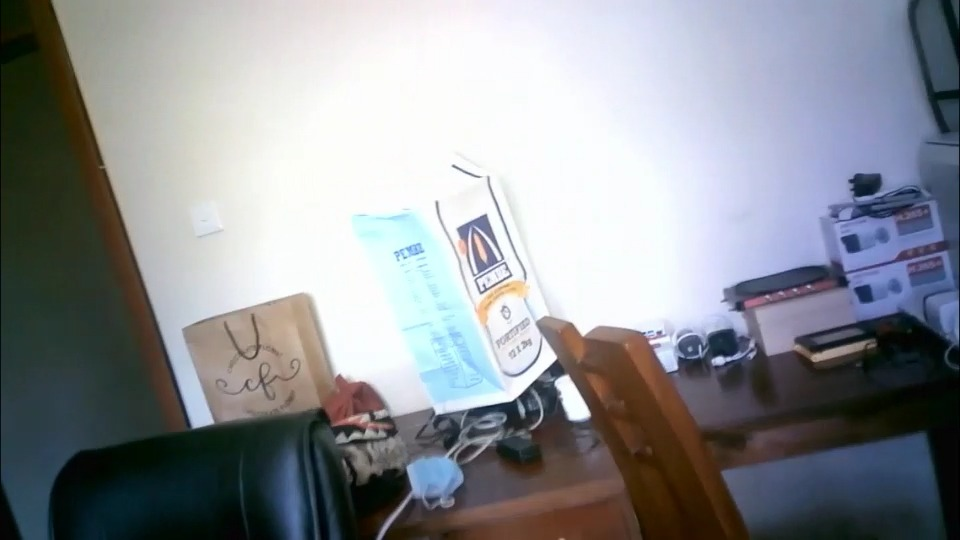wheat_flour_blue_label: (350, 158, 557, 416)
